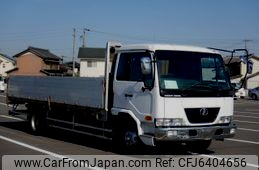truck: (6, 39, 235, 153)
